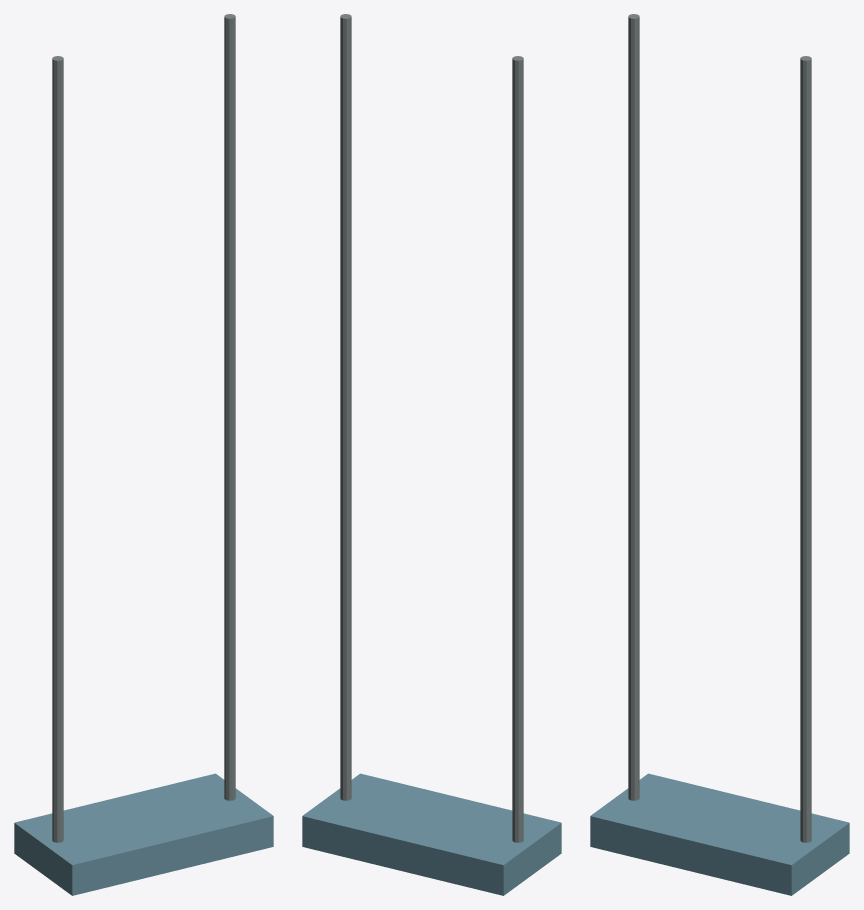
Rendered from park_swing_seat.glb.
The picture shows the model from 3 angles, left to right: view 1: azimuth 30°, elevation 25°; view 2: azimuth 150°, elevation 25°; view 3: azimuth 330°, elevation 25°; orthographic projection.
Parts seen in each view (by area): view 1: park_swing_seat; view 2: park_swing_seat; view 3: park_swing_seat.
Boxes of the visible parts, bbox=[...] form: park_swing_seat: bbox=[14, 14, 273, 895]; park_swing_seat: bbox=[302, 14, 561, 895]; park_swing_seat: bbox=[590, 14, 849, 895].
Size of the model in its own units: 0.48 by 1.85 by 0.24.
